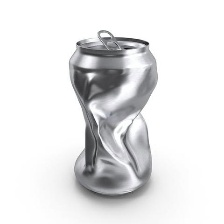can: (59, 26, 166, 202)
